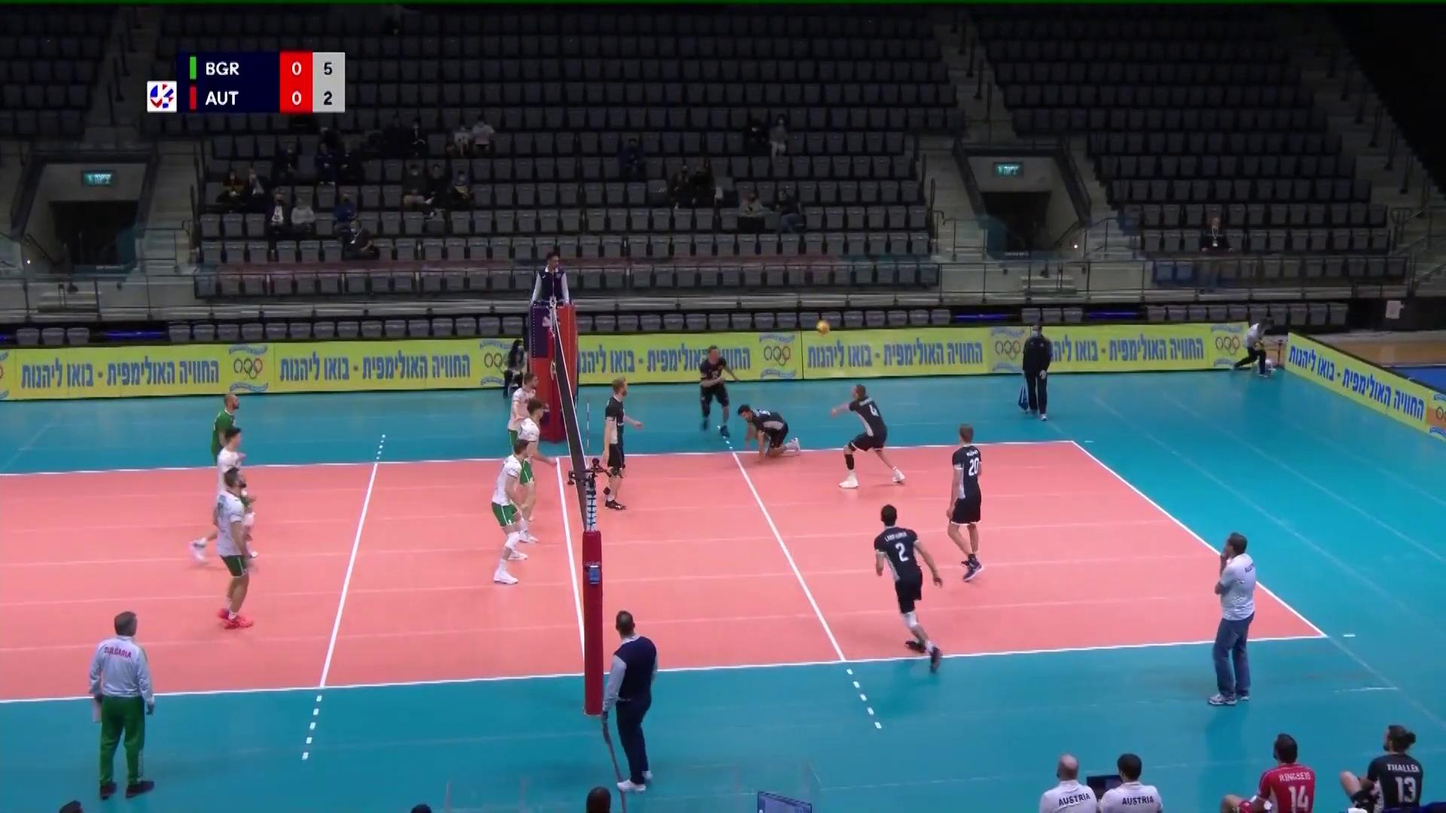ball: (816, 319, 831, 334)
